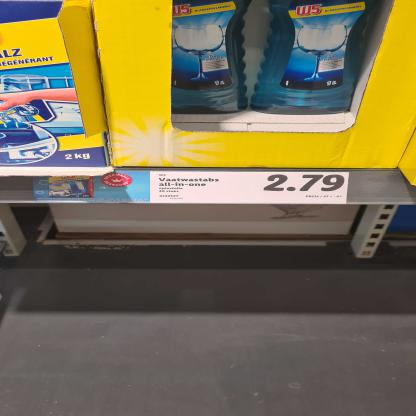prtg: (151, 172, 350, 205)
